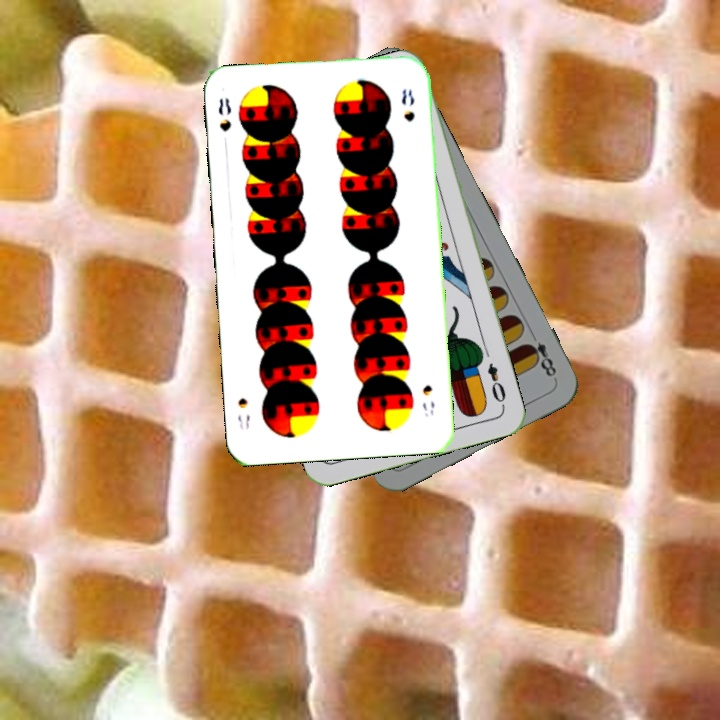E8: (522, 327, 559, 382)
EO: (483, 359, 509, 410)
S8: (214, 93, 234, 134), (418, 381, 437, 419)
